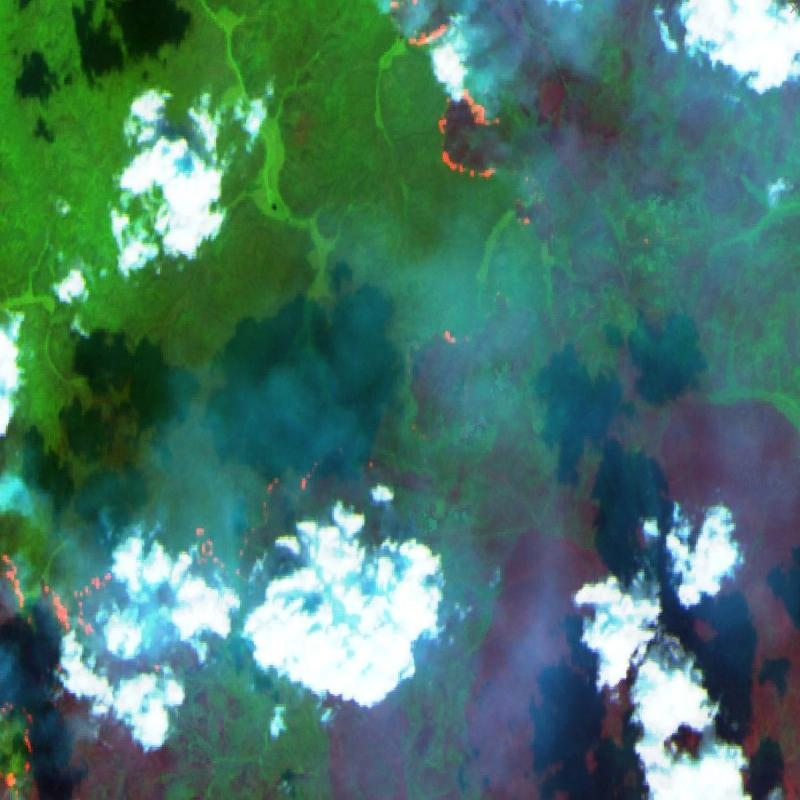fire: (0, 452, 323, 800), (380, 0, 504, 189)
